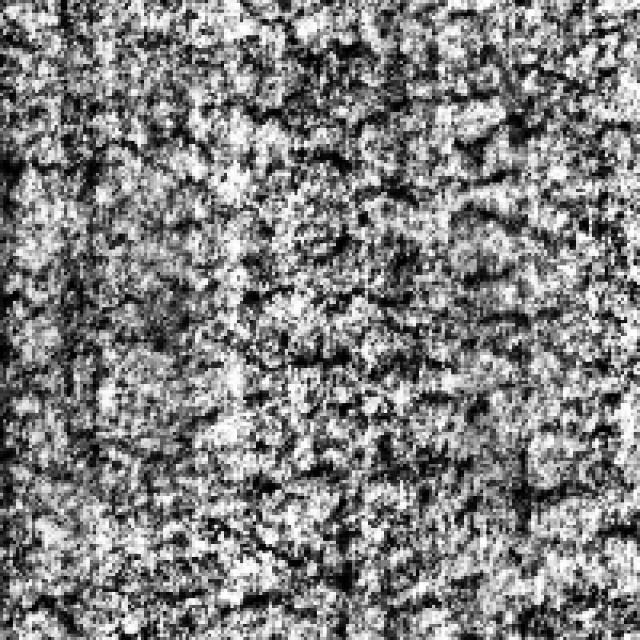Pitted_Surface: (0, 80, 570, 374), (0, 384, 560, 637)
